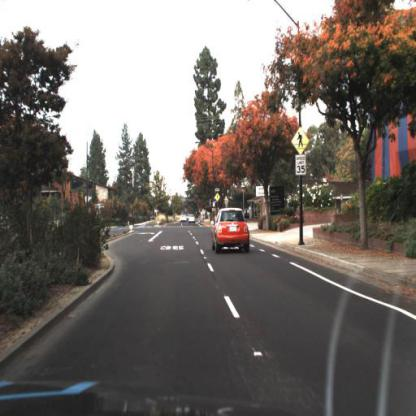car: (213, 207, 253, 252)
